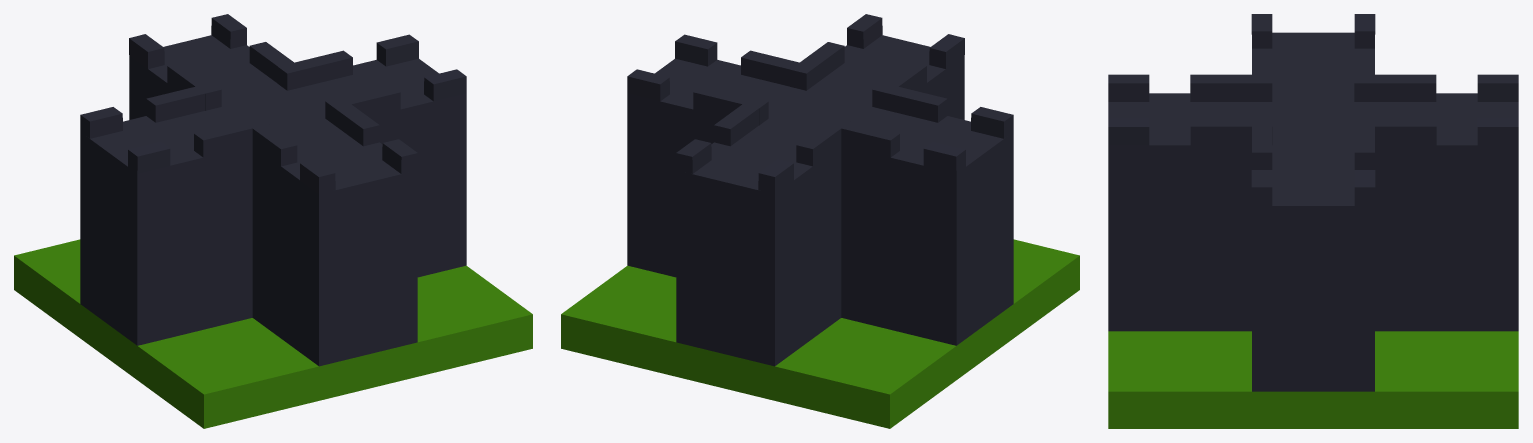
The model's file is wall.obj.
The picture shows the model from 3 angles, left to right: view 1: azimuth 30°, elevation 25°; view 2: azimuth 150°, elevation 25°; view 3: azimuth 270°, elevation 25°; orthographic projection. The views are drawn at different scales.
Parts seen in each view (by area): view 1: Box002, Box001, Tilebase100, Box013, Box015, Box014, Box012; view 2: Box002, Box001, Tilebase100, Box012, Box014, Box015, Box013; view 3: Box001, Box002, Tilebase100, Box013, Box012, Box015, Box014.
Part boxes in pixels (bbox=[...]): Box002: bbox=[80, 58, 466, 345]; Box001: bbox=[129, 35, 417, 366]; Tilebase100: bbox=[14, 239, 532, 428]; Box013: bbox=[128, 117, 335, 194]; Box015: bbox=[211, 14, 418, 90]; Box014: bbox=[325, 69, 466, 173]; Box012: bbox=[80, 34, 221, 138]; Box002: bbox=[627, 58, 1013, 345]; Box001: bbox=[676, 35, 964, 366]; Tilebase100: bbox=[561, 239, 1079, 428]; Box012: bbox=[758, 117, 965, 194]; Box014: bbox=[675, 14, 882, 90]; Box015: bbox=[627, 69, 768, 173]; Box013: bbox=[872, 34, 1013, 138]; Box001: bbox=[1108, 93, 1518, 331]; Box002: bbox=[1252, 32, 1374, 391]; Tilebase100: bbox=[1108, 331, 1518, 428]; Box013: bbox=[1108, 14, 1272, 101]; Box012: bbox=[1354, 14, 1518, 101]; Box015: bbox=[1354, 118, 1518, 205]; Box014: bbox=[1108, 118, 1272, 205].
Bounding box in the file's own units: 10 × 6.5 × 10.
